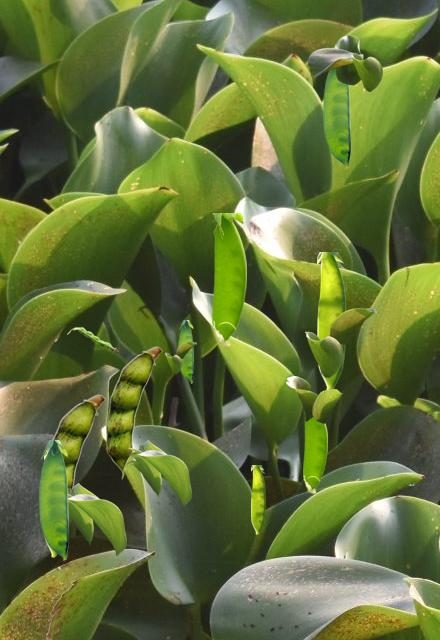pea: (106, 346, 161, 478), (47, 394, 104, 518), (212, 213, 245, 345), (317, 252, 345, 390), (39, 440, 67, 559), (323, 70, 349, 167), (303, 411, 326, 492), (44, 453, 57, 556), (67, 327, 117, 350), (251, 465, 264, 533), (178, 320, 192, 382)
